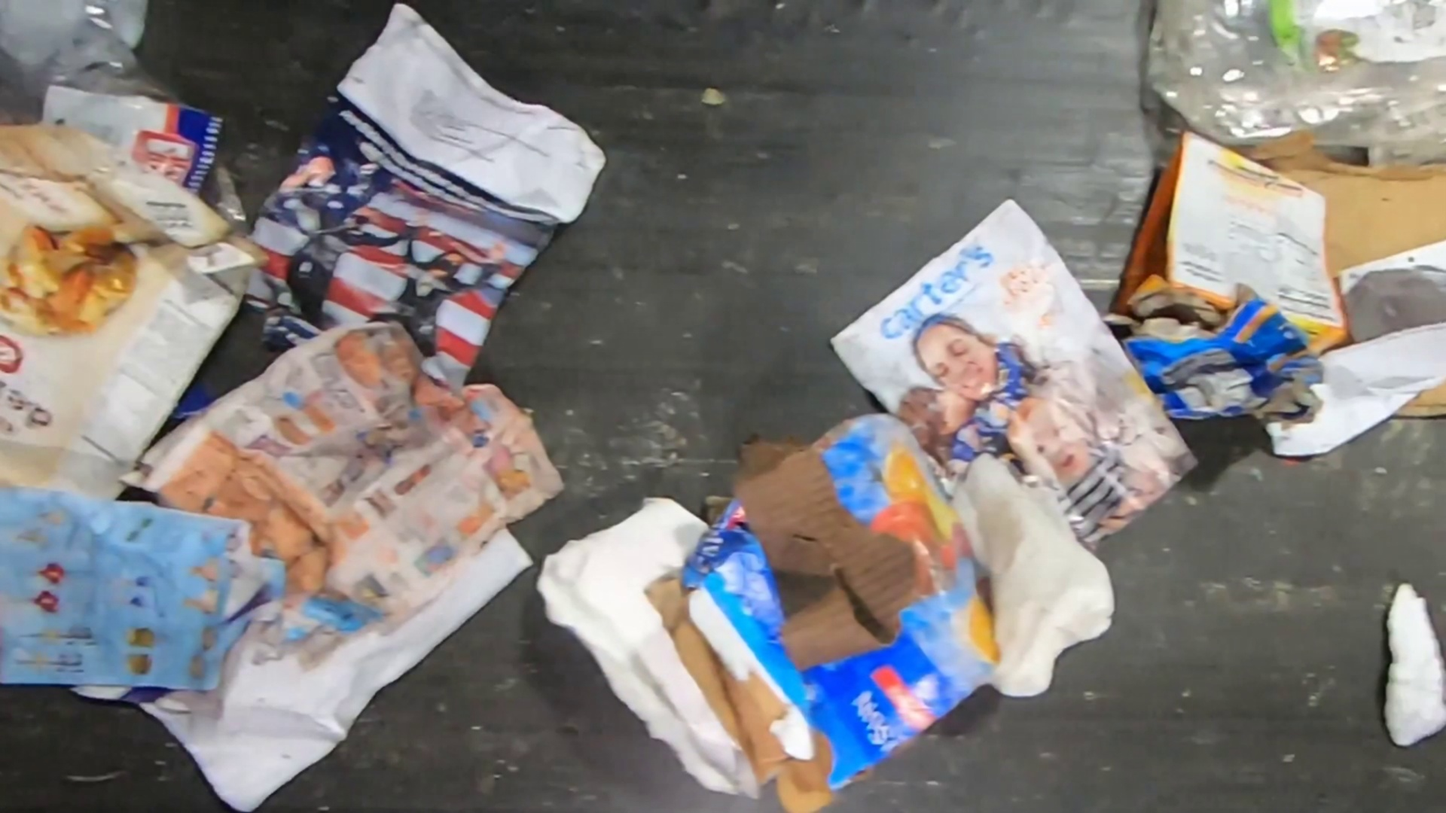cardboard: (645, 412, 1001, 813), (0, 128, 258, 508), (1227, 128, 1446, 418), (1111, 125, 1350, 354), (1098, 283, 1328, 424)
plastic: (1144, 0, 1446, 168), (0, 0, 190, 127)
